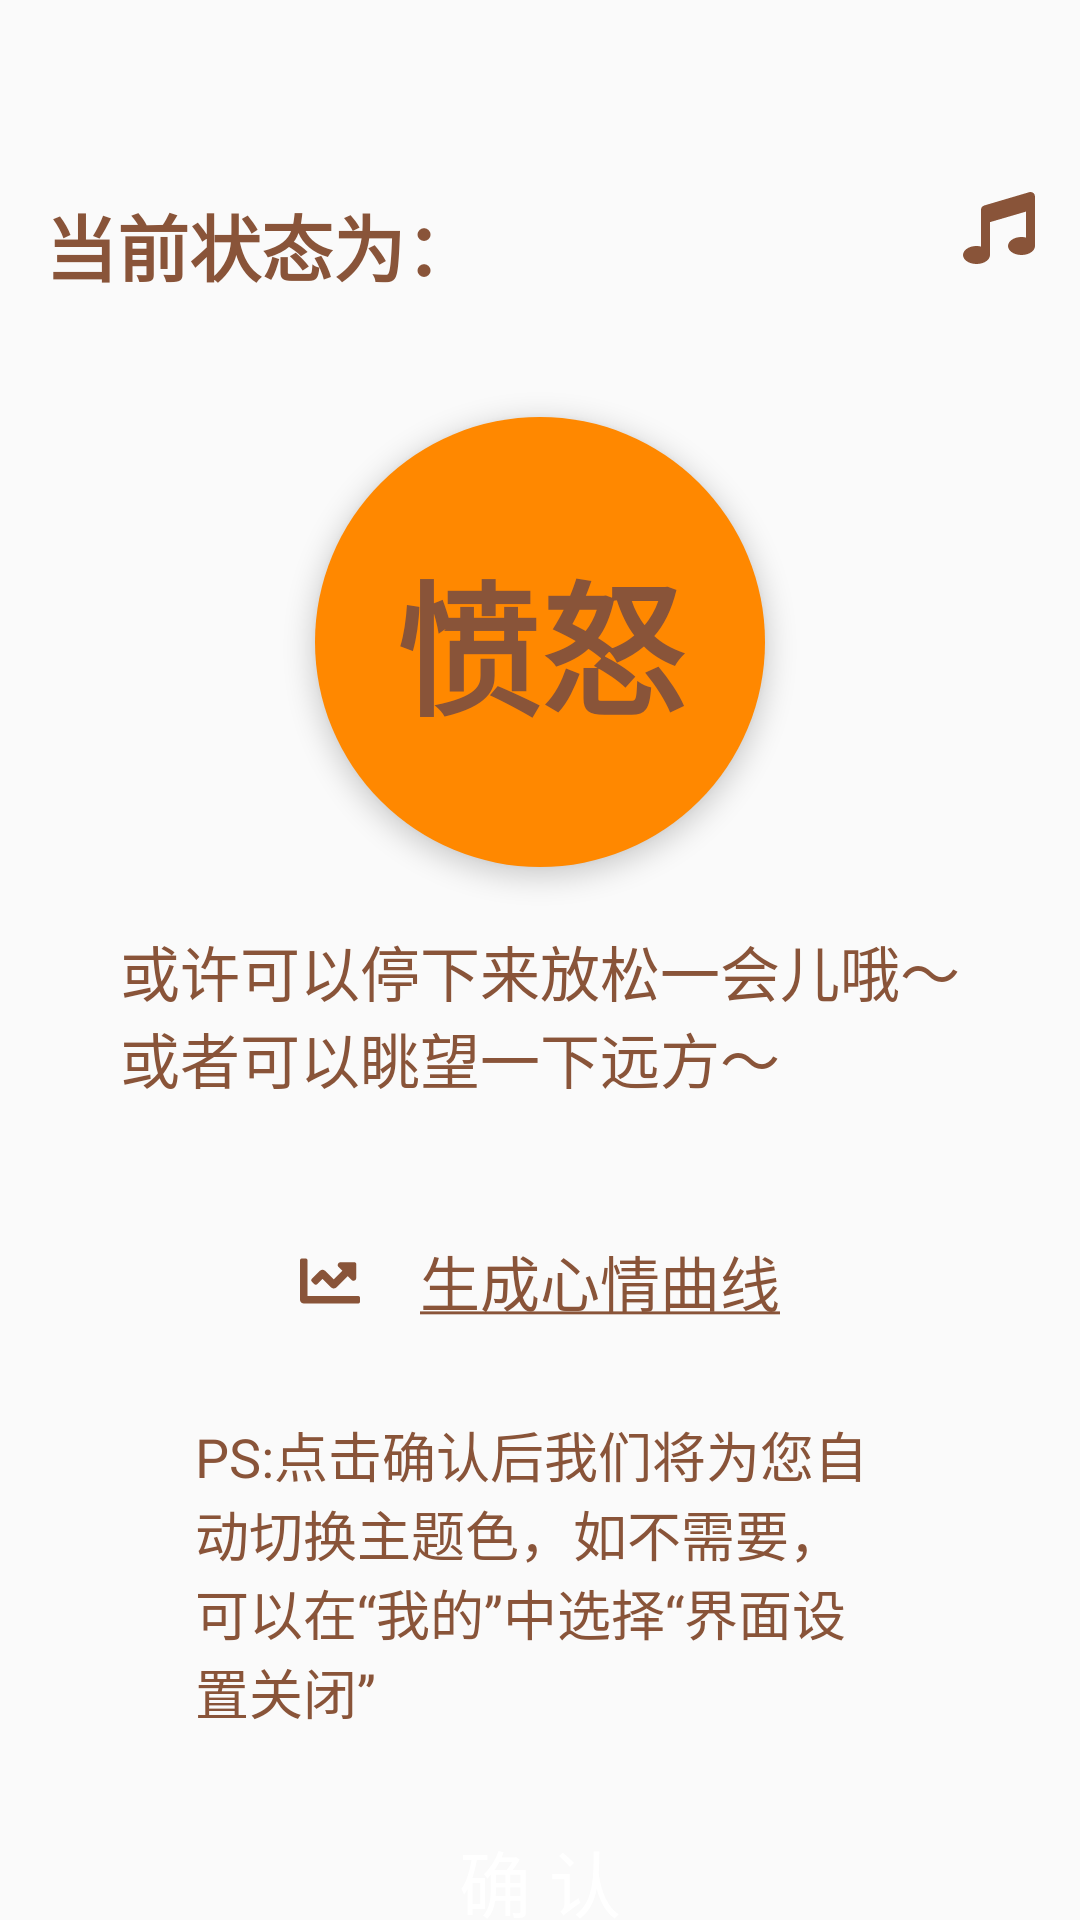

Locate icon controls on the screen. Image size 1080w x 1920h, boxes as rect(x1, y1, x2, y2).
chart line: rect(300, 1258, 360, 1304)
music: rect(963, 192, 1035, 264)
